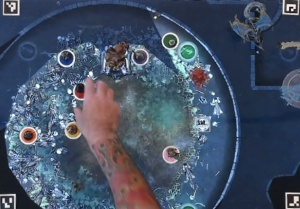blue: (57, 48, 78, 68)
green: (160, 30, 179, 50)
orange: (17, 121, 38, 145)
pink: (157, 143, 180, 164)
red: (68, 80, 88, 102)
violet: (128, 44, 150, 67)
yellow: (62, 120, 83, 141)
